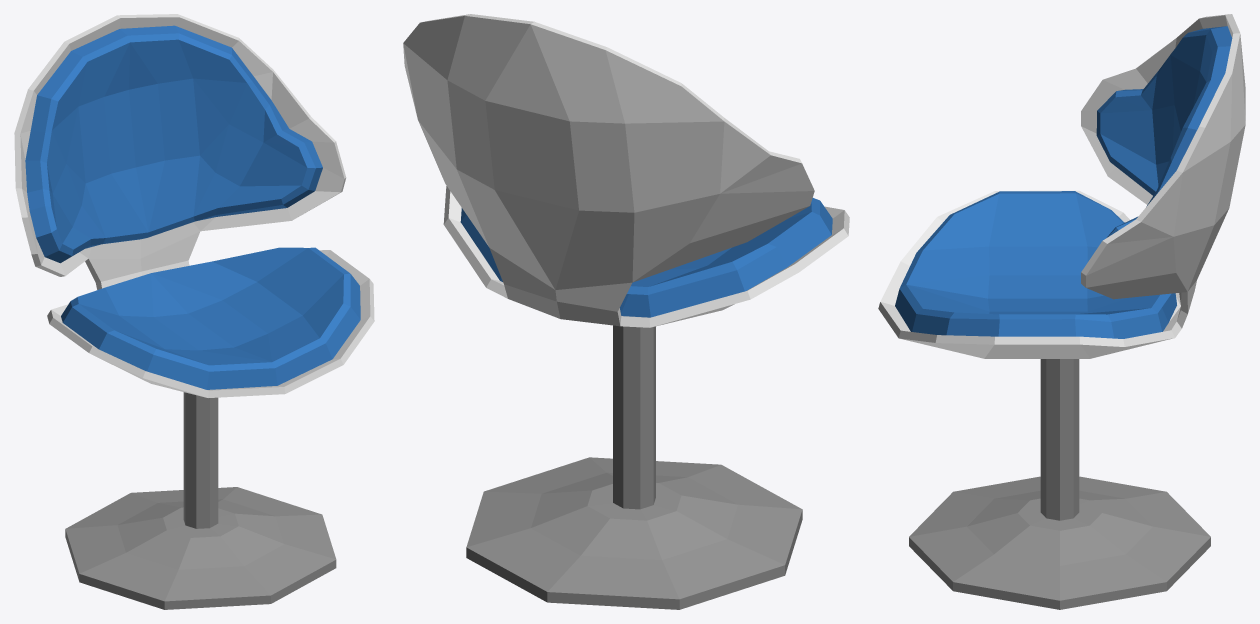
The model's file is Int_Chair05_3.fbx.
3 renders of one model, left to right at view 1: azimuth 30°, elevation 25°; view 2: azimuth 150°, elevation 25°; view 3: azimuth 270°, elevation 25°, orthographic. The views are drawn at different scales.
Visible parts, largest first — view 1: Int_Chair05_3; view 2: Int_Chair05_3; view 3: Int_Chair05_3.
Part boxes in pixels (bbox=[...]): Int_Chair05_3: bbox=[14, 14, 374, 609]; Int_Chair05_3: bbox=[403, 14, 849, 609]; Int_Chair05_3: bbox=[878, 14, 1245, 609].
Size of what is drawn, in the model's own units: 81.35 by 76.31 by 118.
